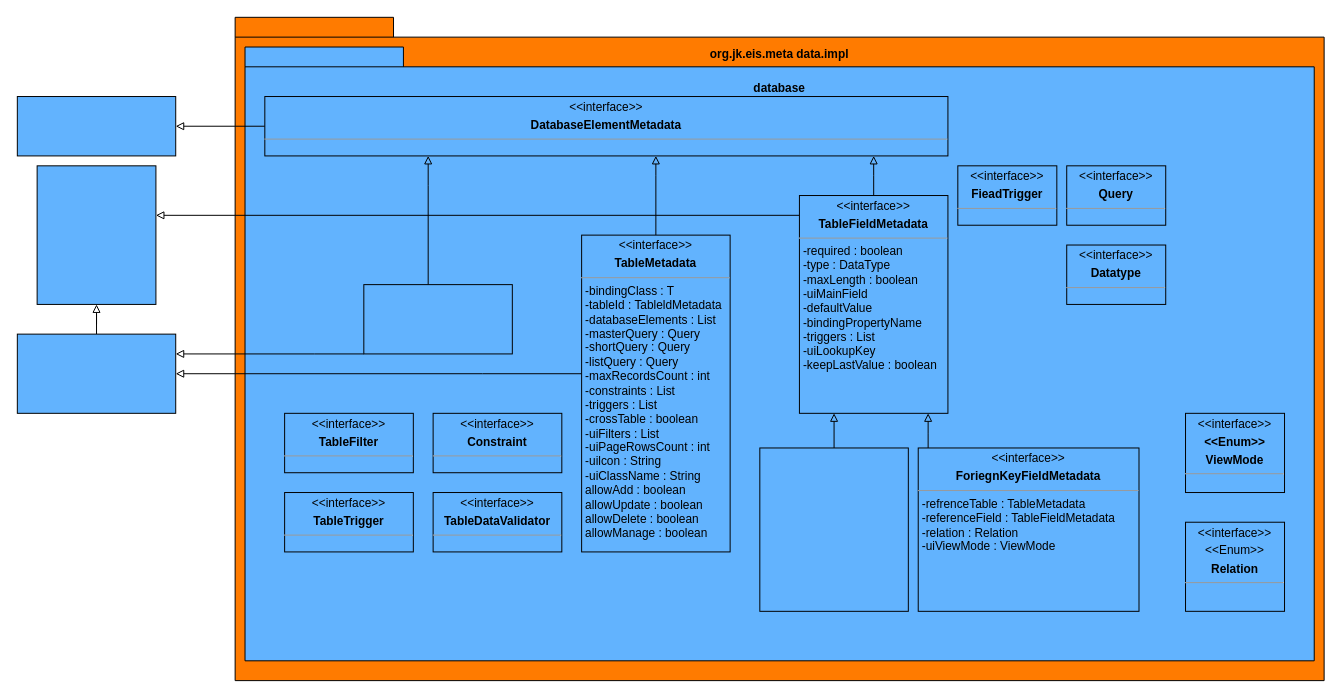
The diagram is 1341 pixels wide and 698 high, and some of its shapes have lost their labels. Each missing label, with the box of its shape:
<<interface>> Container -uiColumnsCount: (16, 333, 176, 413)
<<interface>> Displyable -displayName -icon -enabied -width -height: (36, 165, 156, 304)
<<interface>> FieadsGroup -databaseElements: (363, 284, 512, 354)
<<interface>> ModeIMetadata: (16, 96, 176, 156)
<<interface>> TableldMetadata -autoIncrement : boolean: (759, 447, 908, 611)
